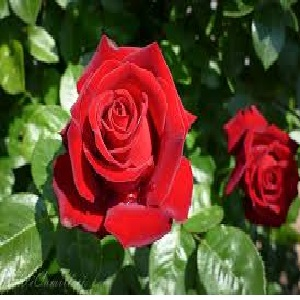rose: (64, 44, 194, 237), (233, 121, 298, 219)
